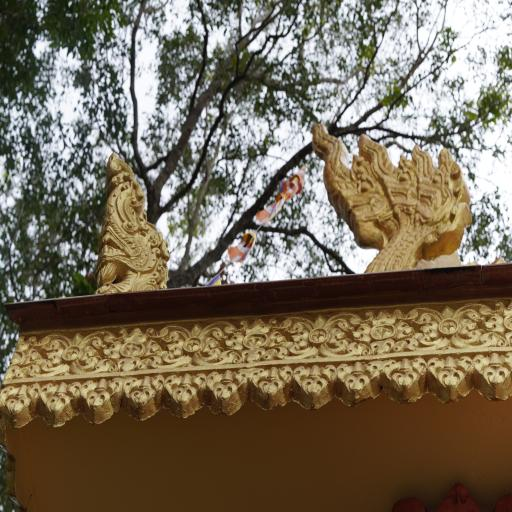la: (194, 315, 321, 361), (322, 306, 450, 350), (70, 324, 194, 367), (11, 328, 70, 380), (450, 300, 512, 348), (425, 354, 472, 401), (205, 367, 251, 413), (381, 357, 426, 401), (292, 361, 336, 406), (166, 372, 206, 421), (124, 376, 164, 424), (40, 382, 82, 426), (338, 359, 379, 404), (472, 355, 512, 401), (249, 363, 293, 404), (80, 380, 122, 421), (0, 384, 39, 428)
ran: (300, 118, 474, 272), (86, 150, 179, 287)
